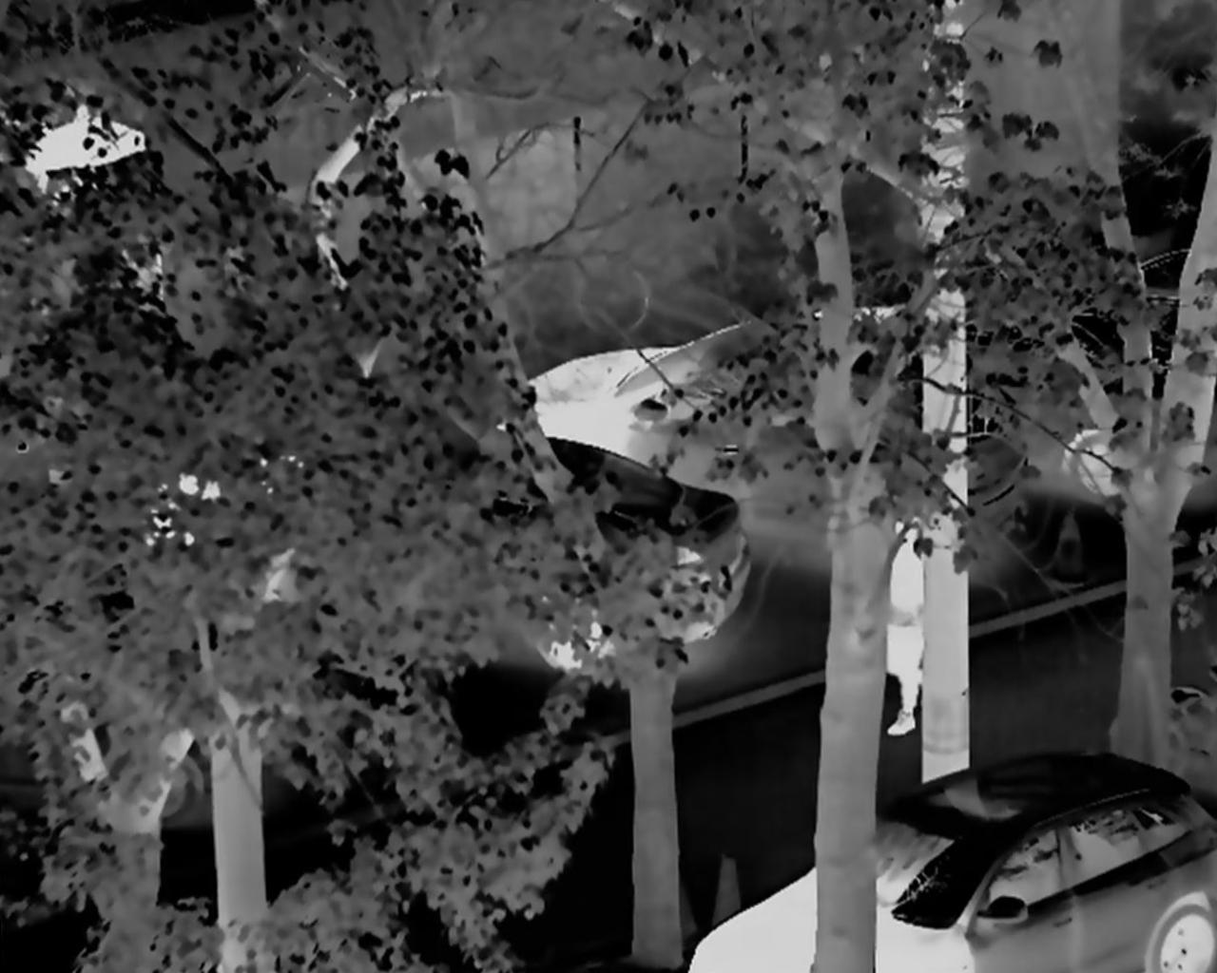person: (883, 518, 937, 735)
